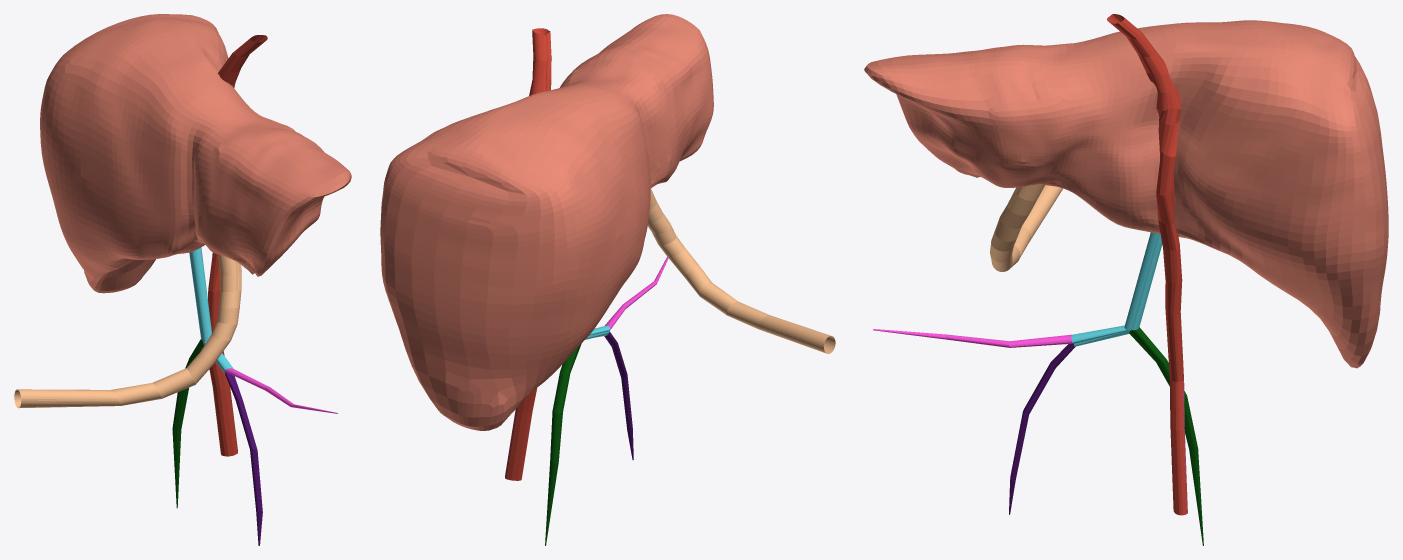
The model's file is Liverfull.glb.
3 views of the same model, side by side, from view 1: azimuth 30°, elevation 25°; view 2: azimuth 150°, elevation 25°; view 3: azimuth 270°, elevation 25° (orthographic). The views are drawn at different scales.
Parts seen in each view (by area): view 1: LIVER, VEINS; view 2: LIVER, VEINS; view 3: LIVER, VEINS.
Boxes of the visible parts, x1=… form: LIVER: x1=40, y1=14, x2=351, y2=293; VEINS: x1=14, y1=35, x2=337, y2=545; LIVER: x1=380, y1=14, x2=713, y2=430; VEINS: x1=505, y1=28, x2=835, y2=545; LIVER: x1=864, y1=20, x2=1388, y2=368; VEINS: x1=873, y1=14, x2=1203, y2=545.
Size of the model in its own units: 52.32 by 73.68 by 63.55.
